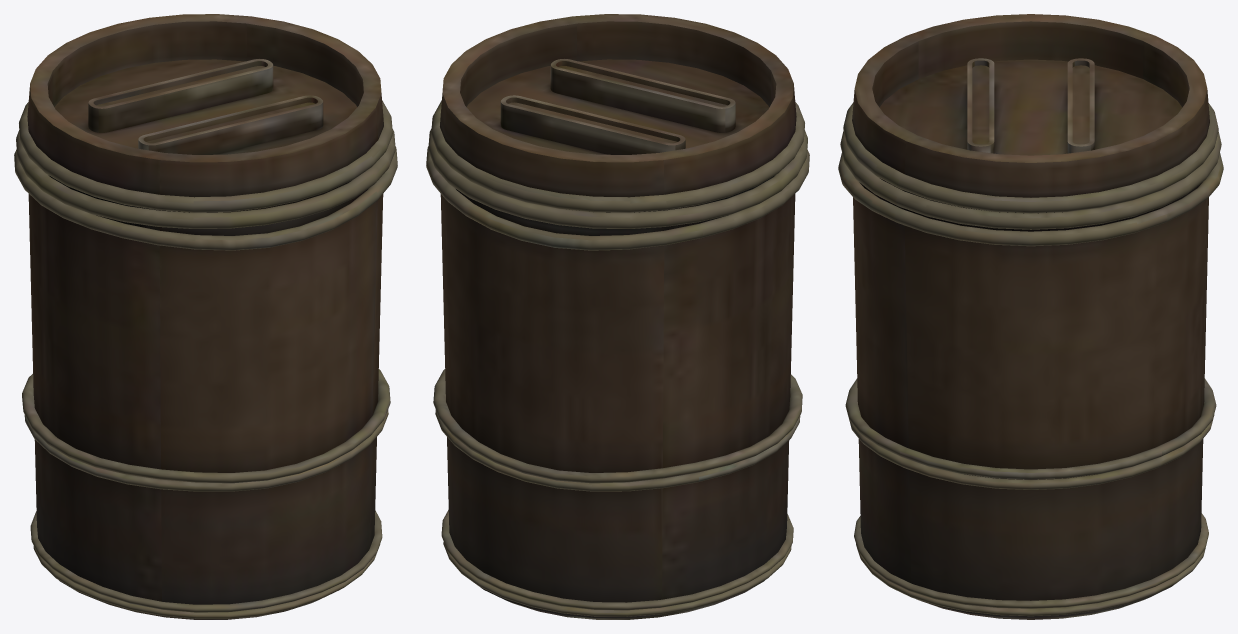
File: SM_barrel_04.glb
The picture shows the model from 3 angles, left to right: view 1: azimuth 30°, elevation 25°; view 2: azimuth 150°, elevation 25°; view 3: azimuth 270°, elevation 25°; orthographic projection.
Visible parts, largest first — view 1: SM_barrel_04; view 2: SM_barrel_04; view 3: SM_barrel_04.
Boxes of the visible parts, x1,y1,x2,y2 form: SM_barrel_04: (14, 14, 397, 619); SM_barrel_04: (426, 14, 809, 619); SM_barrel_04: (838, 14, 1223, 619).
Size of the model in its own units: 0.6948 by 0.9269 by 0.6948.
1 material, 1 textured.
